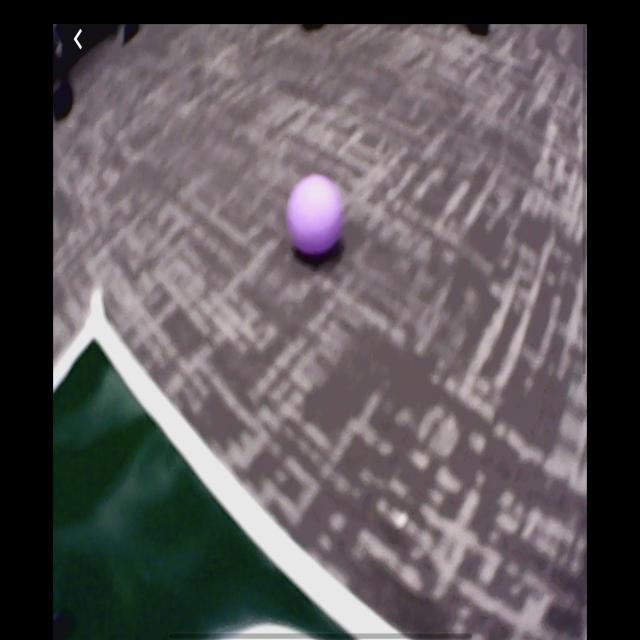ball: (286, 173, 345, 259)
